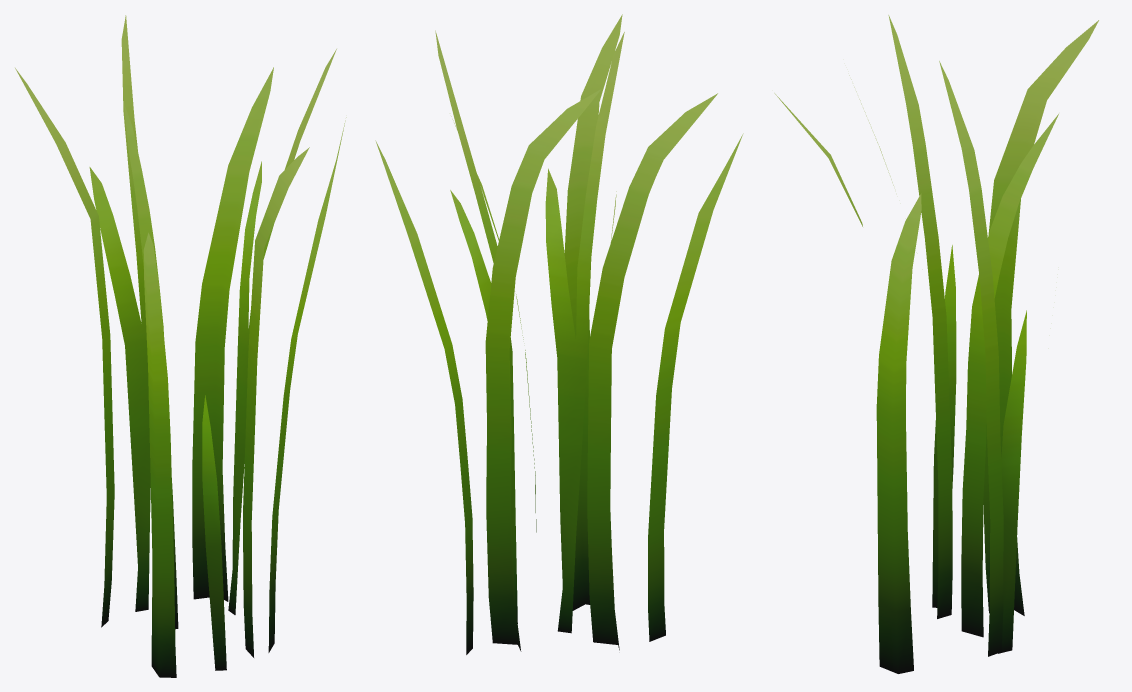
Rendered from Tall_Grass.glb.
3 renders of one model, left to right at view 1: azimuth 30°, elevation 25°; view 2: azimuth 150°, elevation 25°; view 3: azimuth 270°, elevation 25°, orthographic. The views are drawn at different scales.
Visible parts, largest first — view 1: Grass_Common_Tall; view 2: Grass_Common_Tall; view 3: Grass_Common_Tall.
Part boxes in pixels (x1=…): Grass_Common_Tall: x1=15, y1=15, x2=346, y2=677; Grass_Common_Tall: x1=375, y1=14, x2=743, y2=654; Grass_Common_Tall: x1=774, y1=15, x2=1098, y2=673.
Size of the model in its own units: 0.8951 by 1.87 by 0.9931.
1 material, 1 textured.
